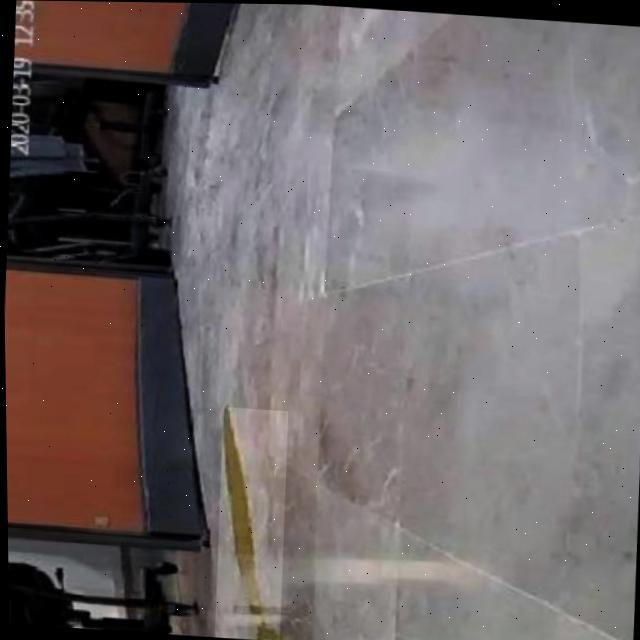spillage: (222, 406, 278, 640)
